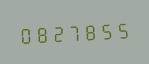eight: (33, 22, 48, 45), (81, 19, 96, 42)
five: (113, 17, 128, 41), (97, 18, 112, 41)
seven: (65, 20, 80, 43)
two: (49, 21, 64, 44)
zero: (17, 22, 32, 46)
